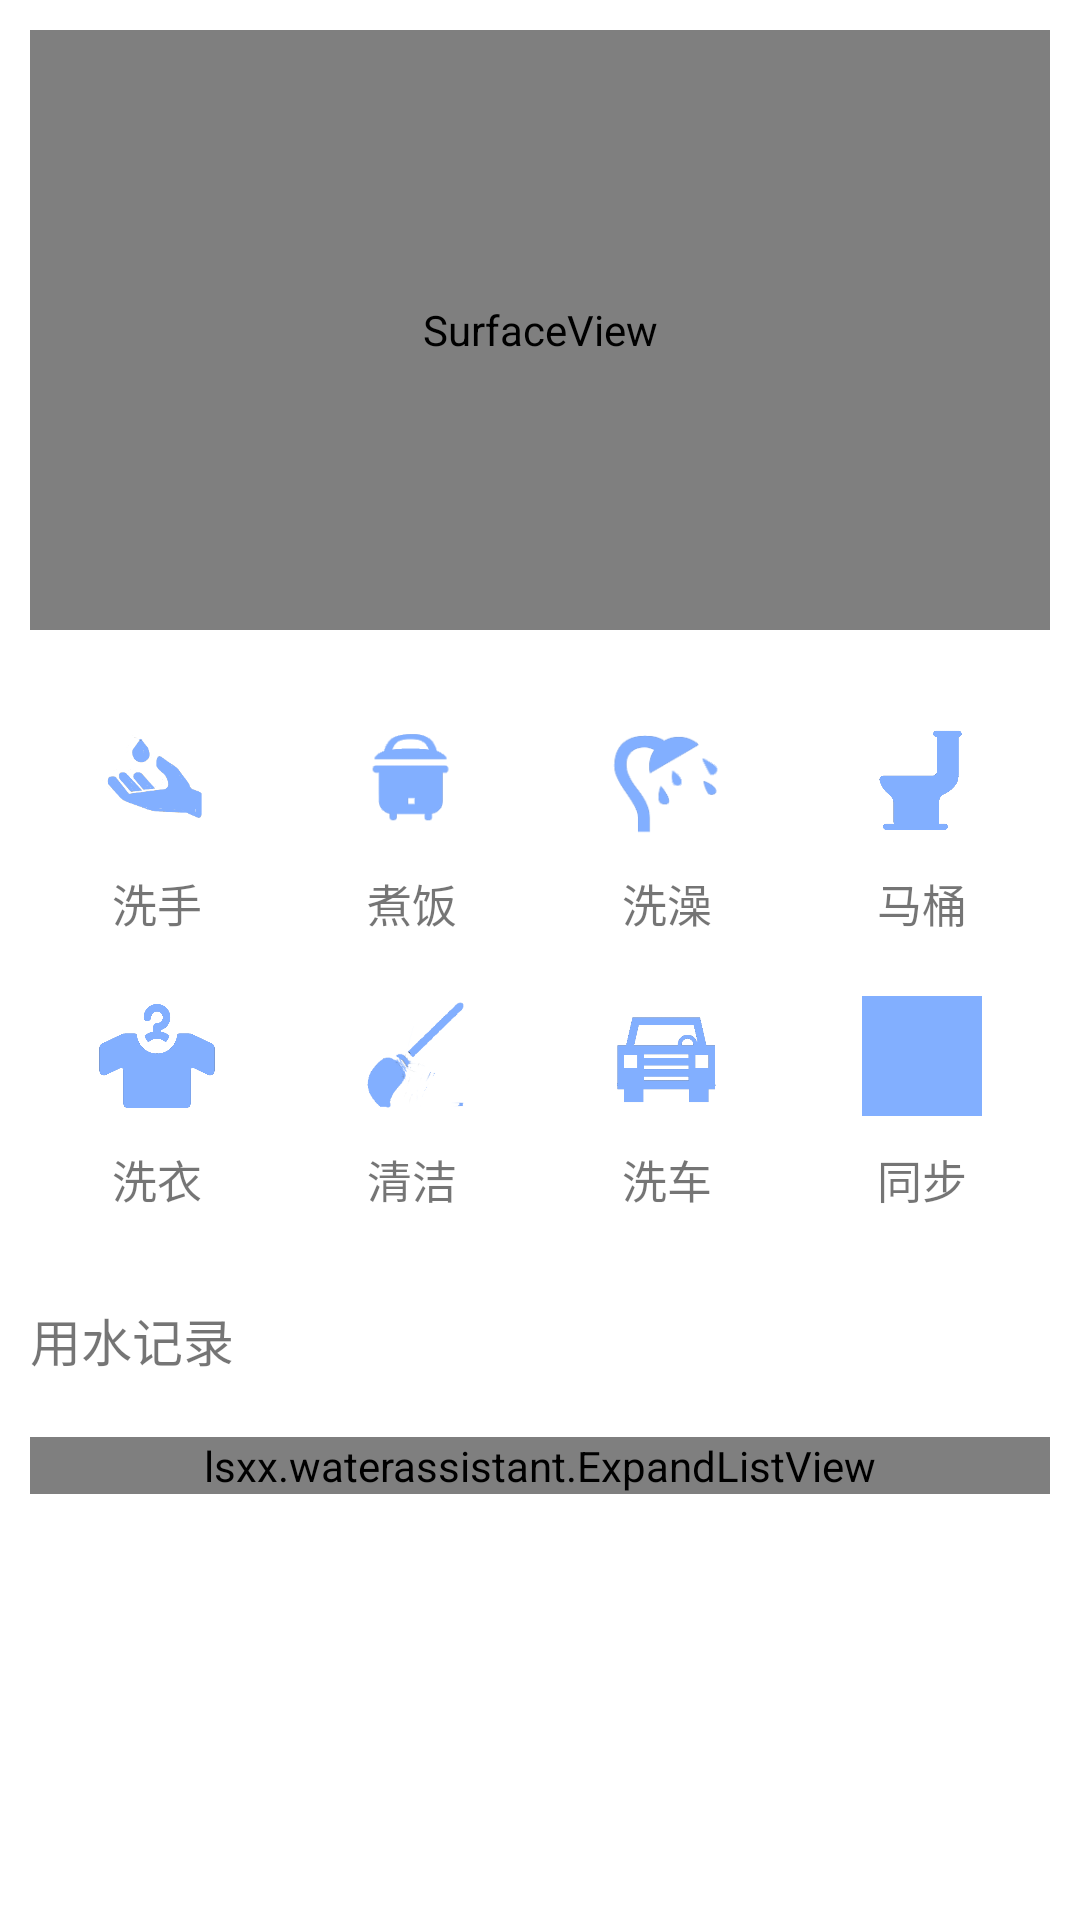

Icon click points for this 1080 x 1920 phone screenshot, format (x,y):
bath: (666,783)
car: (666,1059)
clean: (415,1055)
cloth: (157,1056)
flush: (920,780)
food: (410,777)
hand: (155,778)
